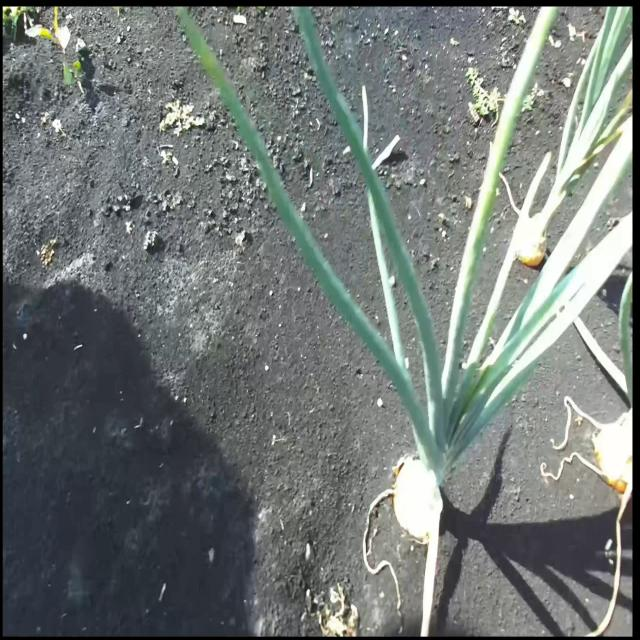onion: (391, 454, 439, 544), (594, 411, 638, 500)
